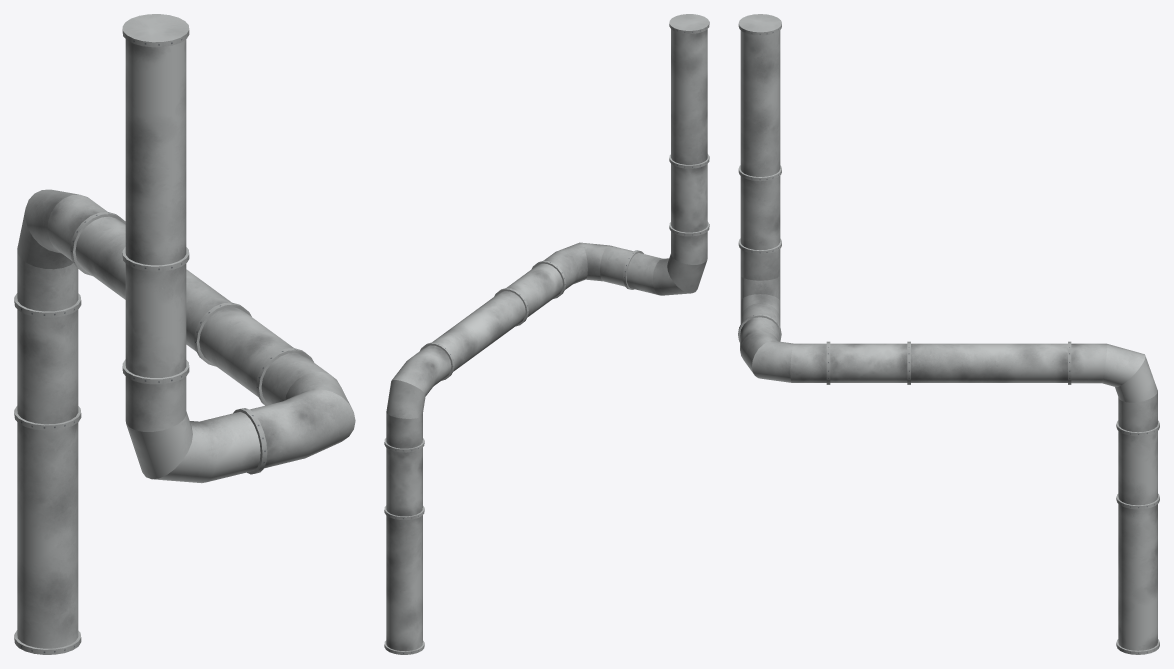
File: tube_inone.glb
3 views of the same model, side by side, from view 1: azimuth 30°, elevation 25°; view 2: azimuth 150°, elevation 25°; view 3: azimuth 270°, elevation 25° (orthographic). The views are drawn at different scales.
Parts seen in each view (by area): view 1: real_tube; view 2: real_tube; view 3: real_tube.
Boxes of the visible parts, left/top/right/bottom form: real_tube: left=14, top=14, right=355, bottom=654; real_tube: left=384, top=14, right=709, bottom=654; real_tube: left=738, top=14, right=1159, bottom=654.
Size of the model in its own units: 53.73 by 185 by 125.
Materials: 1 (1 with a texture image).
